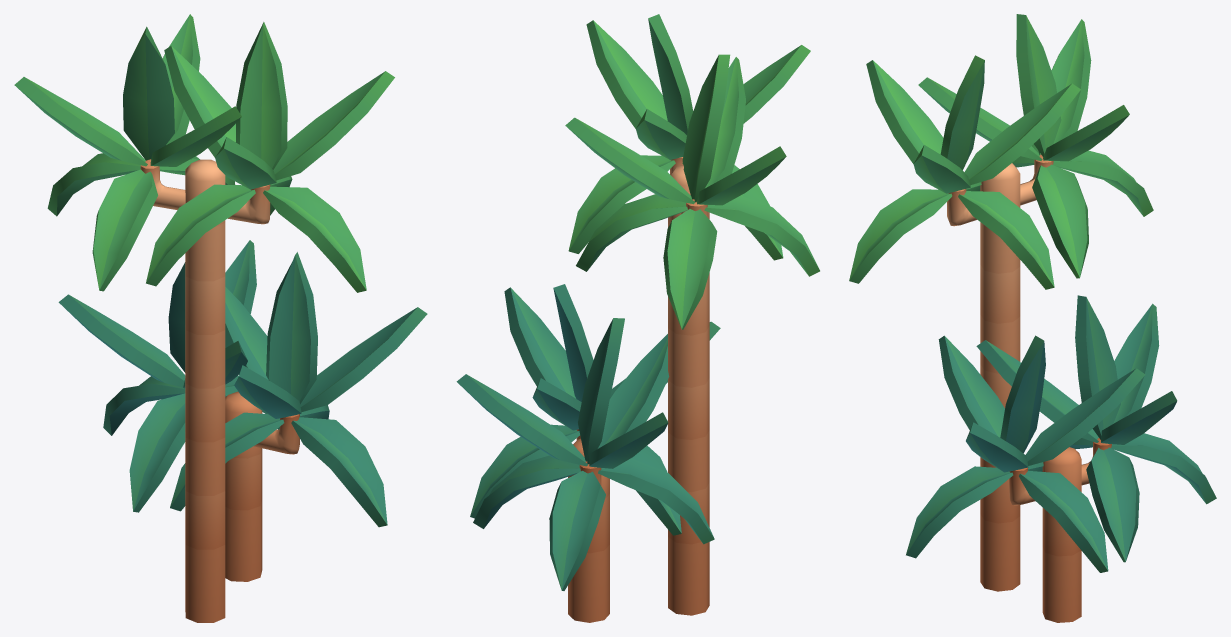
The model's file is yucca-plant.glb.
3 renders of one model, left to right at view 1: azimuth 30°, elevation 25°; view 2: azimuth 150°, elevation 25°; view 3: azimuth 270°, elevation 25°, orthographic. The views are drawn at different scales.
Parts seen in each view (by area): view 1: yucca_plant_small; view 2: yucca_plant_small; view 3: yucca_plant_small.
Part boxes in pixels (x1=…): yucca_plant_small: x1=14, y1=14, x2=427, y2=622; yucca_plant_small: x1=456, y1=14, x2=819, y2=622; yucca_plant_small: x1=849, y1=14, x2=1216, y2=622.
Size of the model in its own units: 0.9422 by 1.51 by 0.9171.
Materials: 1 (1 with a texture image).
